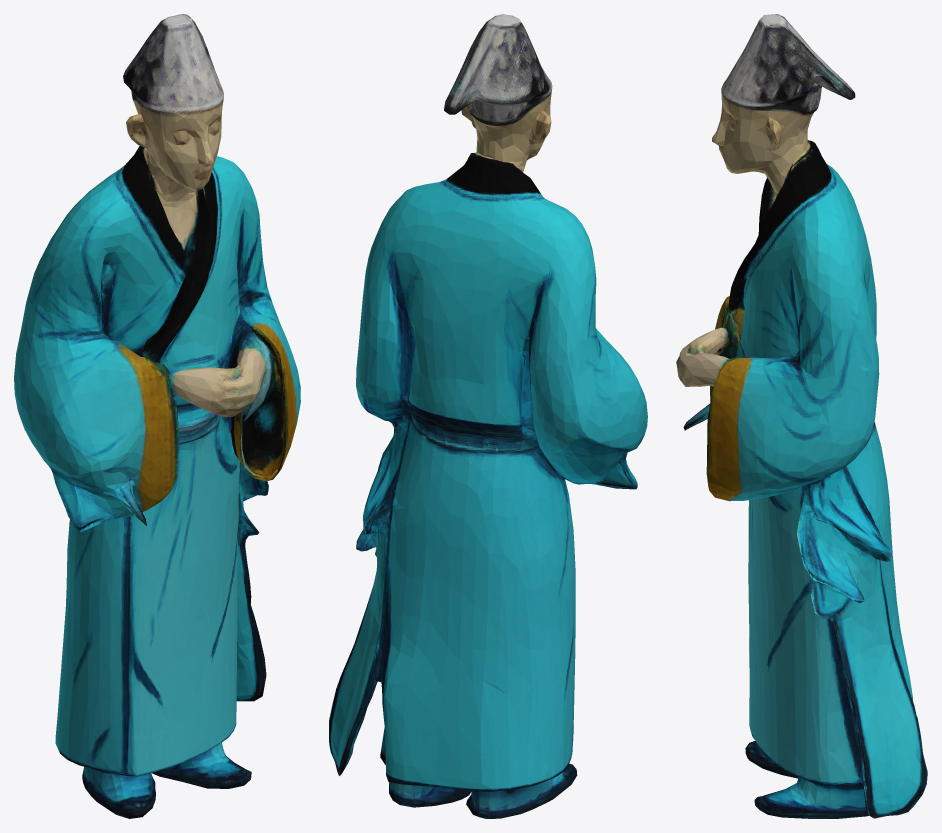
Rendered from kimtrongthuykieu.glb.
3 views of the same model, side by side, from view 1: azimuth 30°, elevation 25°; view 2: azimuth 150°, elevation 25°; view 3: azimuth 270°, elevation 25° (orthographic). The views are drawn at different scales.
Visible parts, largest first — view 1: world; view 2: world; view 3: world.
Boxes of the visible parts, bbox=[...] form: world: bbox=[14, 14, 300, 818]; world: bbox=[329, 14, 647, 818]; world: bbox=[676, 14, 927, 818].
Bounding box in the file's own units: 0.3635 × 0.9985 × 0.2976.
1 material, 1 textured.
